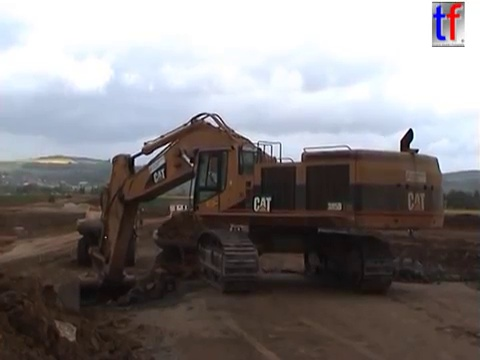excavator: (54, 109, 449, 314)
truck: (150, 202, 289, 276), (73, 202, 146, 270), (47, 193, 57, 205), (64, 191, 73, 200)
worker: (405, 216, 417, 240)
